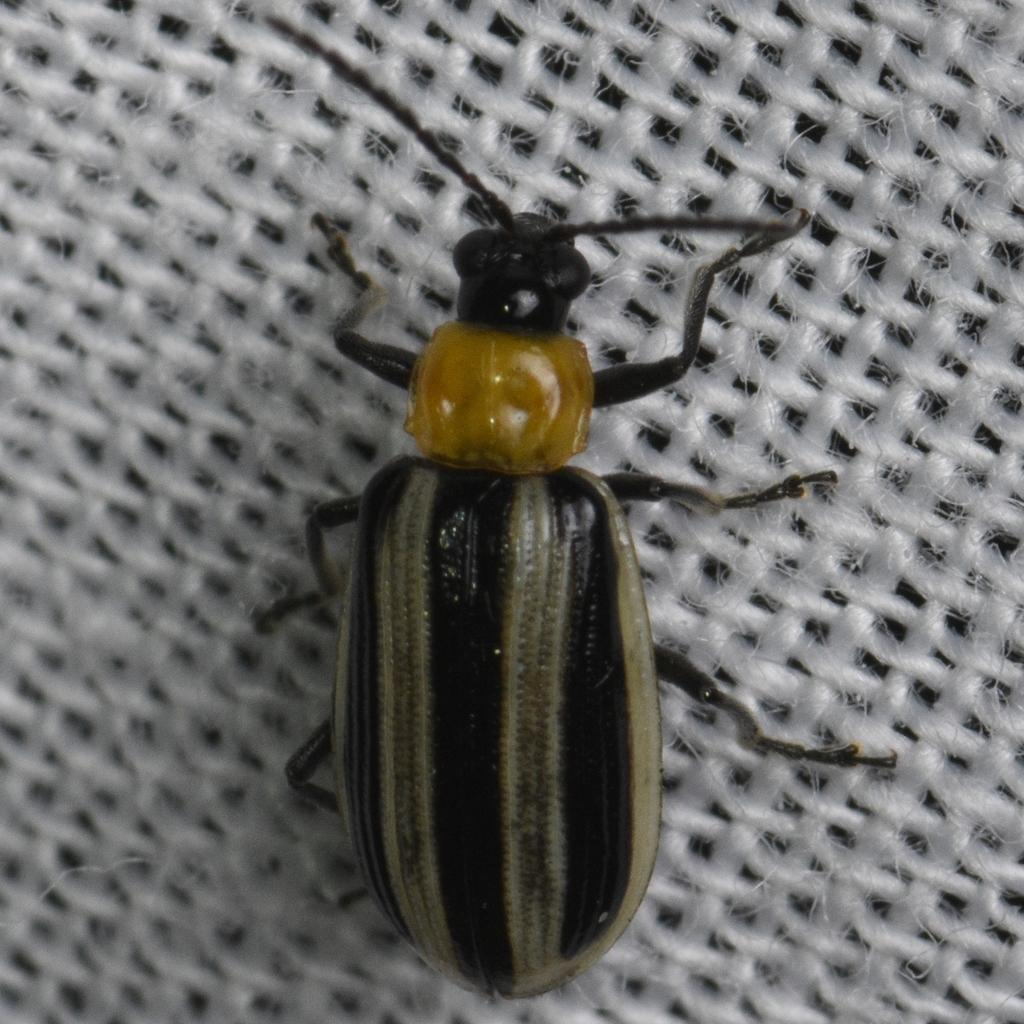potato_beetle: (146, 0, 934, 1024)
